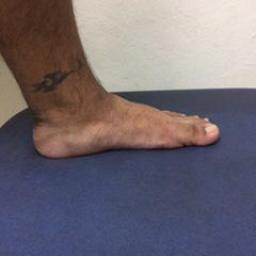Medial View -Left Foot-: (15, 55, 225, 176)
